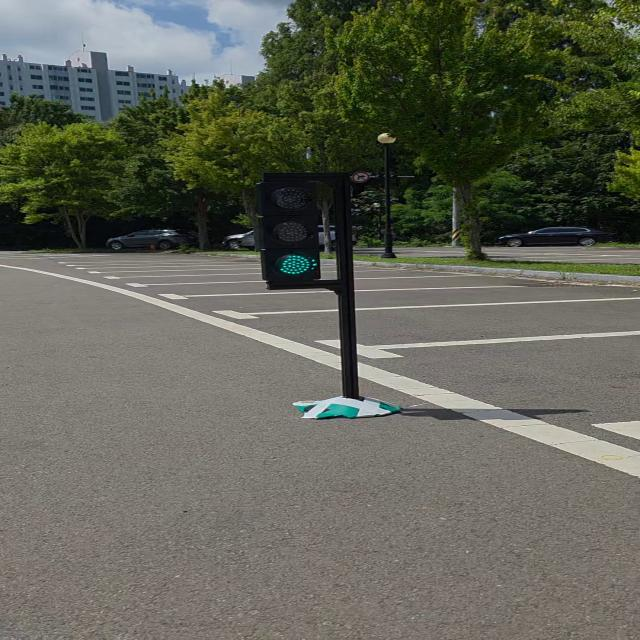green: (253, 176, 324, 287)
